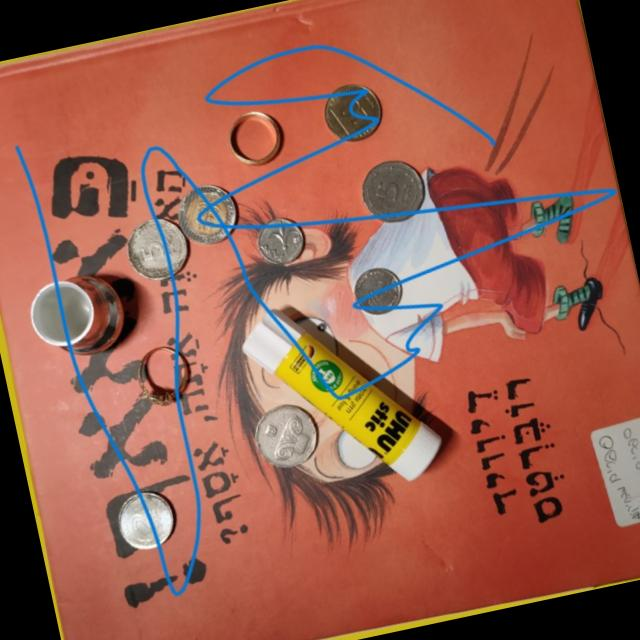1-shekel: (252, 211, 309, 270), (350, 264, 409, 320)
10-shekel: (172, 177, 246, 251)
2-shekel: (112, 486, 181, 557)
5-shekel: (354, 150, 434, 234), (244, 396, 324, 475), (123, 213, 194, 290)
